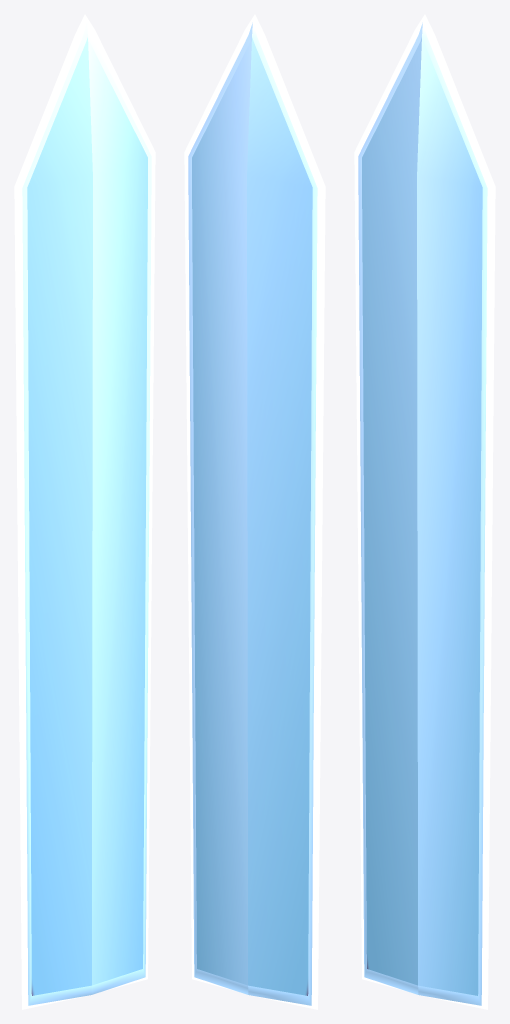
The model's file is steel_blade (15).glb.
3 views of the same model, side by side, from view 1: azimuth 30°, elevation 25°; view 2: azimuth 150°, elevation 25°; view 3: azimuth 330°, elevation 25° (orthographic).
Visible parts, largest first — view 1: steel_blade_steel.048; view 2: steel_blade_steel.048; view 3: steel_blade_steel.048.
Boxes of the visible parts, x1,y1,x2,y2 form: steel_blade_steel.048: [14, 14, 155, 1009]; steel_blade_steel.048: [184, 14, 325, 1009]; steel_blade_steel.048: [354, 14, 495, 1009].
Bounding box in the file's own units: 1.71 × 11.4 × 0.3369.
1 material, 1 textured.
